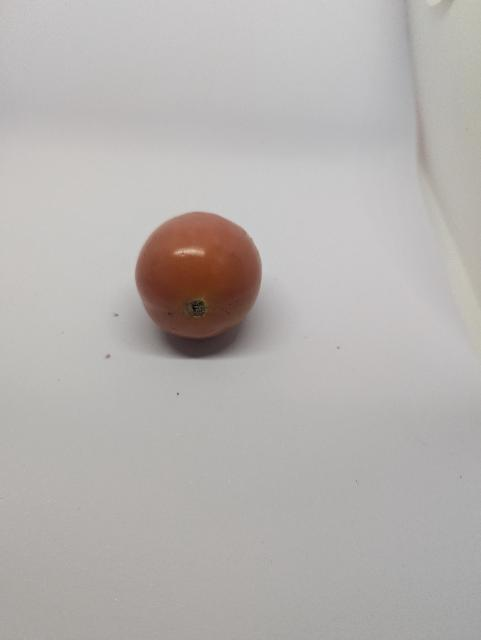red: (131, 209, 272, 343)
